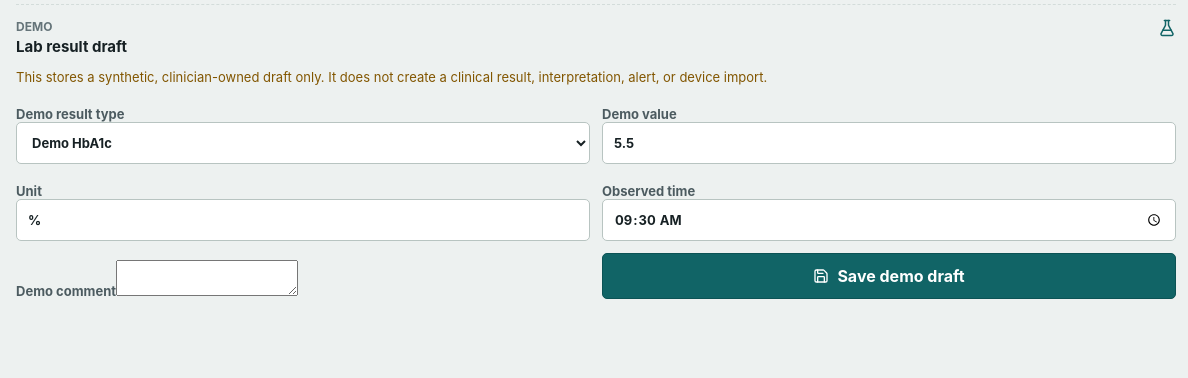
Test: LabResultsDraftDemo › saves only the synthetic lab result payload and shows a soft warning
The image size is (1188, 378).
Replace the text in the field labelled "Demo value" with "7.2" at (889, 143), box 602,122 -> 1176,164
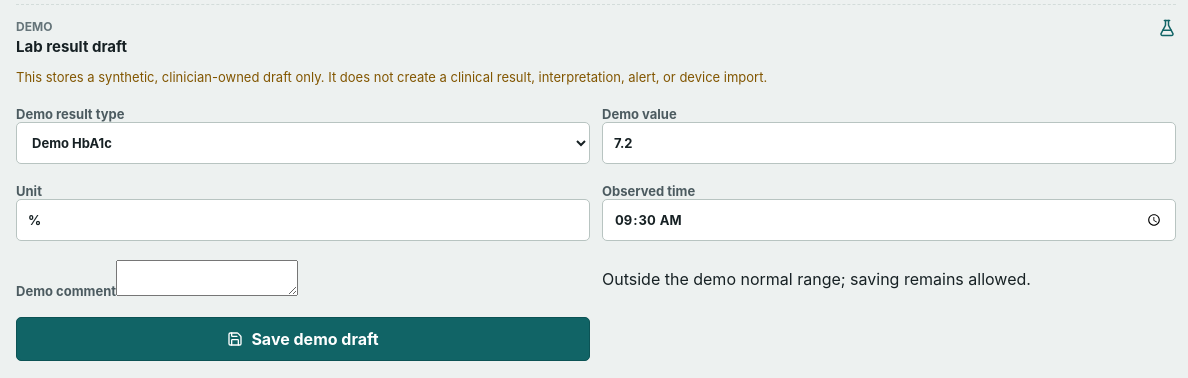
Expected: the message shows "Outside the demo normal range", 602,269 -> 1031,289
Click the button "Save demo draft" at (303, 339), box 16,317 -> 590,361
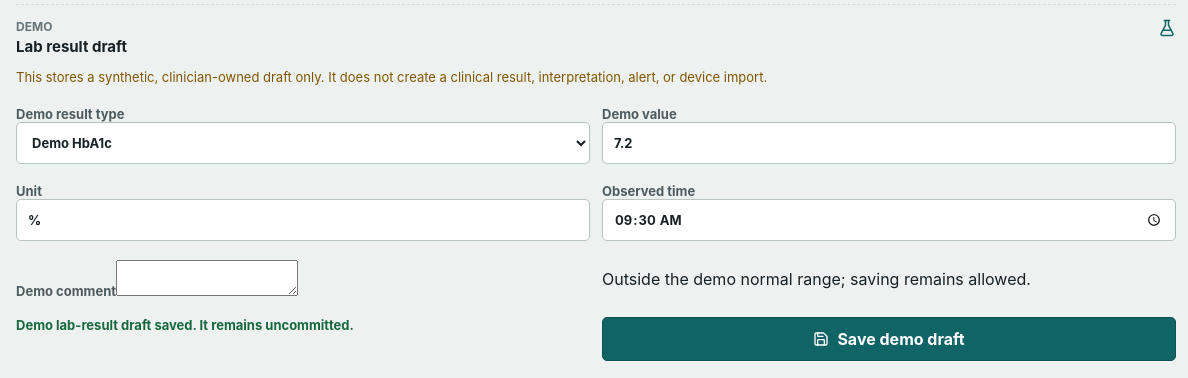
Expected: the text "Demo lab-result draft saved. It remains uncommitted." is shown, 16,317 -> 354,333
